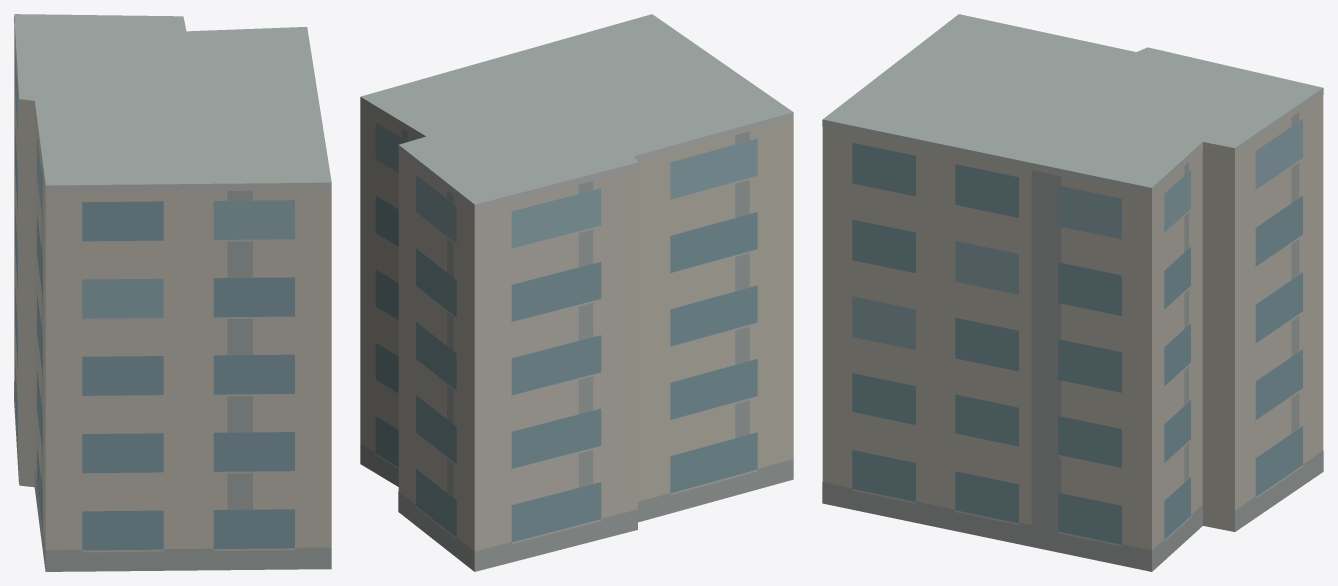
The model's file is survey-upis-32965635.glb.
The picture shows the model from 3 angles, left to right: view 1: azimuth 30°, elevation 25°; view 2: azimuth 150°, elevation 25°; view 3: azimuth 270°, elevation 25°; orthographic projection. The views are drawn at different scales.
Parts seen in each view (by area): view 1: survey-upis-32965635.tmp; view 2: survey-upis-32965635.tmp; view 3: survey-upis-32965635.tmp.
Boxes of the visible parts, box(x1,y1,x2,y2) form: survey-upis-32965635.tmp: box(14, 14, 331, 571); survey-upis-32965635.tmp: box(360, 14, 793, 571); survey-upis-32965635.tmp: box(822, 14, 1323, 571).
Size of the model in its own units: 12.44 by 12.8 by 15.15.
